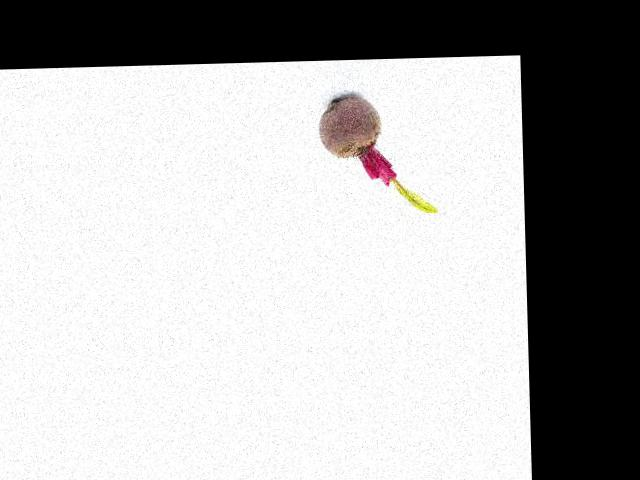beet: (317, 95, 436, 216)
